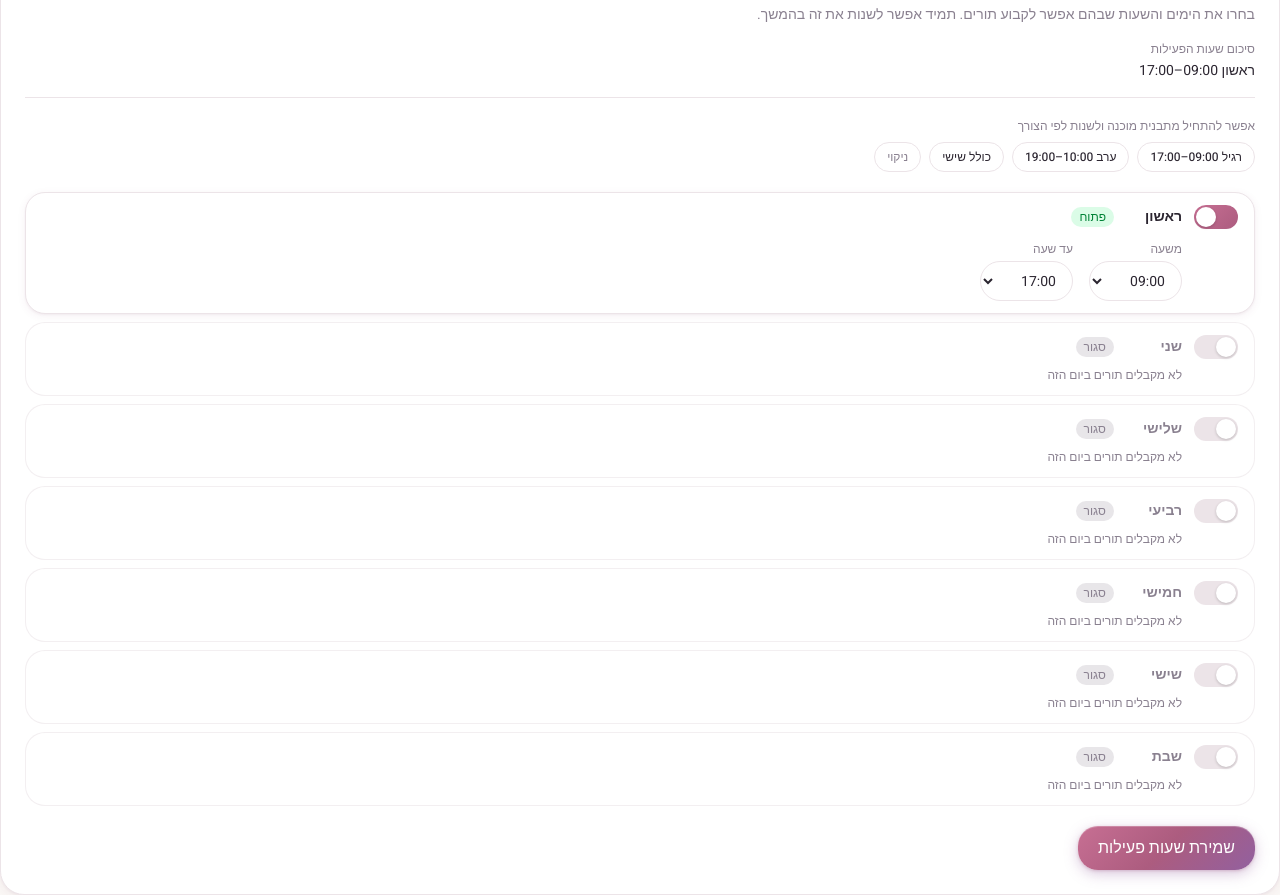
WeeklyAvailabilityForm › renders per-day validation errors returned by the action (start and end)
This screenshot has width=1280, height=895.
(page scrolled)
Click the button "שמירת שעות פעילות".
click(1166, 848)  # box [1078, 826, 1255, 870]
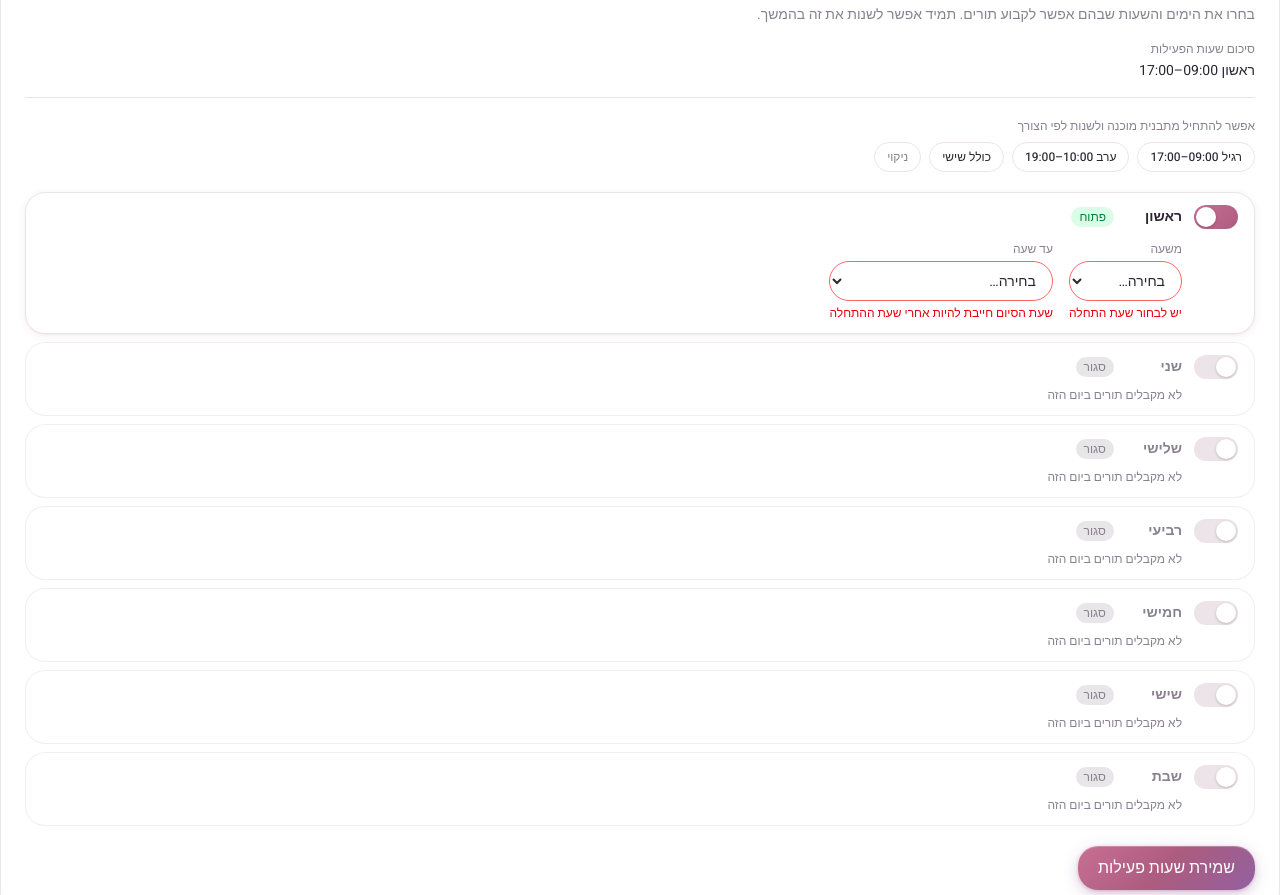
Expected: the text "יש לבחור שעת התחלה" is shown, [1069, 305, 1182, 321]
Expected: the text "שעת הסיום חייבת להיות אחרי שעת ההתחלה" is shown, [829, 305, 1053, 321]
